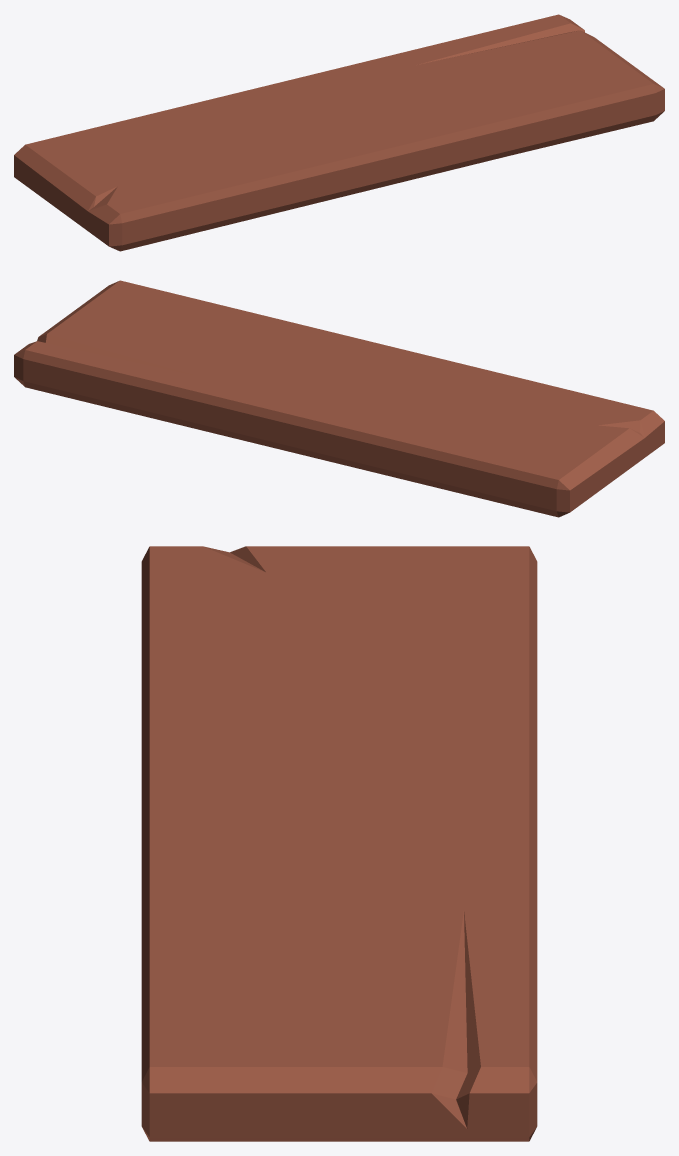
The model's file is board.fbx.
3 renders of one model, top to bottom at view 1: azimuth 30°, elevation 25°; view 2: azimuth 150°, elevation 25°; view 3: azimuth 270°, elevation 25°, orthographic. The views are drawn at different scales.
Parts seen in each view (by area): view 1: Plane; view 2: Plane; view 3: Plane.
Boxes of the visible parts, bbox=[...] form: Plane: bbox=[14, 14, 664, 251]; Plane: bbox=[14, 280, 664, 517]; Plane: bbox=[141, 546, 537, 1141].
Bounding box in the file's own units: 131 × 8.43 × 40.37.
